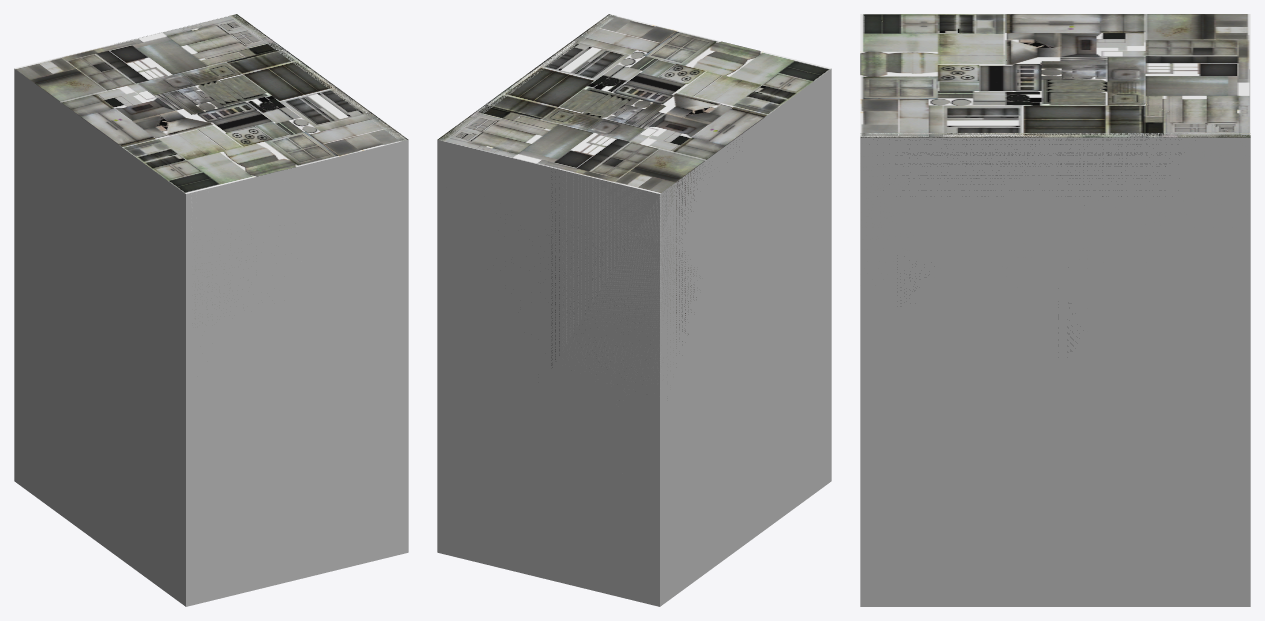
File: counter_top_01.DAE
3 views of the same model, side by side, from view 1: azimuth 30°, elevation 25°; view 2: azimuth 150°, elevation 25°; view 3: azimuth 270°, elevation 25° (orthographic). The views are drawn at different scales.
Parts seen in each view (by area): view 1: bounds, colbox-1, counter_top_one100; view 2: bounds, colbox-1, counter_top_one100; view 3: bounds, colbox-1, counter_top_one100.
Part boxes in pixels (x1=…): bounds: x1=14, y1=68, x2=408, y2=606; colbox-1: x1=14, y1=14, x2=407, y2=230; counter_top_one100: x1=192, y1=14, x2=407, y2=323; bounds: x1=437, y1=68, x2=831, y2=606; colbox-1: x1=439, y1=14, x2=831, y2=400; counter_top_one100: x1=438, y1=14, x2=652, y2=344; bounds: x1=860, y1=137, x2=1250, y2=606; colbox-1: x1=860, y1=14, x2=1250, y2=196; counter_top_one100: x1=860, y1=133, x2=1250, y2=227.
Size of the model in its own units: 64.81 by 86.59 by 115.
